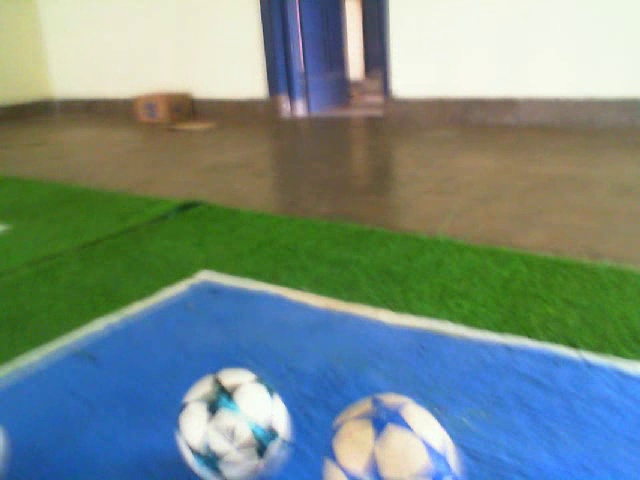ball: (172, 365, 297, 480), (314, 388, 470, 480)
